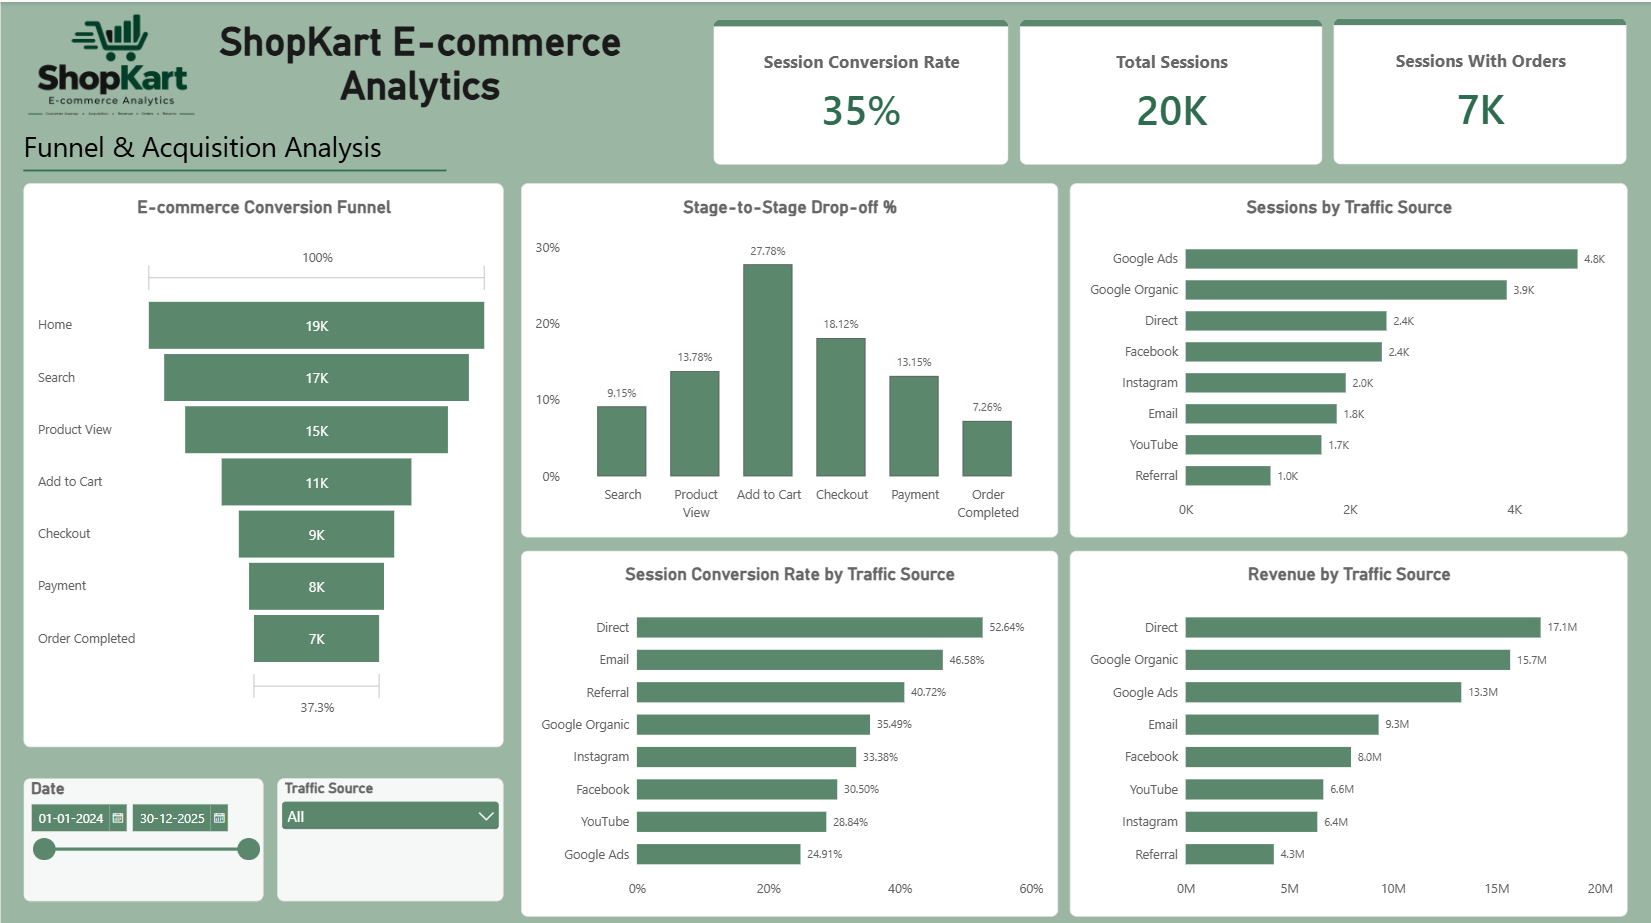

What the dashboard file says about the page in this screenshot:
{"tool":"powerbi","page":{"name":"Funnel Analysis","canvas":[1920,1080],"ordinal":0},"visuals":[{"type":"funnel","title":"E-commerce Conversion Funnel","fields":{"Category":["Funnel Stages.Stage"],"Y":["Funnel Stages.Funnel Value"]},"box":[26.2,211,558.1,655.8],"z":0},{"type":"clusteredColumnChart","title":"Stage-to-Stage Drop-off %","fields":{"Category":["Funnel Stages.Stage"],"Y":["Funnel Stages.Funnel Drop Off %"]},"box":[605.2,211,624.4,411.6],"z":1000},{"type":"cardVisual","fields":{"Data":["sessions.Total Sessions"]},"box":[1184.3,20.9,352.3,169.2],"z":2000},{"type":"cardVisual","fields":{"Data":["sessions.Sessions With Orders"]},"box":[1550.6,19.2,341.9,170.9],"z":3000},{"type":"cardVisual","fields":{"Data":["sessions.Session Conversion Rate"]},"box":[828.5,20.9,343.6,169.2],"z":4000},{"type":"clusteredBarChart","title":"Session Conversion Rate by Traffic Source","fields":{"Category":["sessions.traffic_source"],"Y":["sessions.Traffic Source Conversion Rate"]},"box":[605.2,638.4,624.4,425.6],"z":5000},{"type":"clusteredBarChart","title":"Sessions by Traffic Source","fields":{"Category":["sessions.traffic_source"],"Y":["sessions.Total Sessions"]},"box":[1243.6,211,648.8,411.6],"z":6000},{"type":"clusteredBarChart","title":"Revenue by Traffic Source ","fields":{"Category":["sessions.traffic_source"],"Y":["orders.Revenue by Traffic Source"]},"box":[1243.6,638.4,648.8,425.6],"z":7000},{"type":"textbox","title":"ShopKart E-commerce Analytics","box":[242.4,19.2,490.1,111.6],"z":8000},{"type":"textbox","box":[26.2,144.8,432.6,45.3],"z":9000},{"type":"shape","box":[26.2,167.4,491.9,57.6],"z":10000},{"type":"slicer","fields":{"Values":["DateTable.Date"]},"box":[26.2,903.5,279.1,143],"z":11000},{"type":"slicer","fields":{"Values":["sessions.traffic_source"]},"box":[320.9,903.5,263.4,143],"z":12000},{"type":"image","box":[0,0,256.4,144.8],"z":13000}]}

Visuals, with their boxes in screenshot pixels (x1, y1, x2, y2), scaled from the page's 1920x1080 canvas onto the 1651x923 screenshot:
"E-commerce Conversion Funnel" funnel: (x1=23, y1=180, x2=502, y2=741)
"Stage-to-Stage Drop-off %" clusteredColumnChart: (x1=520, y1=180, x2=1057, y2=532)
cardVisual - sessions.Total Sessions: (x1=1018, y1=18, x2=1321, y2=162)
cardVisual - sessions.Sessions With Orders: (x1=1333, y1=16, x2=1627, y2=162)
cardVisual - sessions.Session Conversion Rate: (x1=712, y1=18, x2=1008, y2=162)
"Session Conversion Rate by Traffic Source" clusteredBarChart: (x1=520, y1=546, x2=1057, y2=909)
"Sessions by Traffic Source" clusteredBarChart: (x1=1069, y1=180, x2=1627, y2=532)
"Revenue by Traffic Source " clusteredBarChart: (x1=1069, y1=546, x2=1627, y2=909)
"ShopKart E-commerce Analytics" textbox: (x1=208, y1=16, x2=630, y2=112)
textbox: (x1=23, y1=124, x2=395, y2=162)
shape: (x1=23, y1=143, x2=446, y2=192)
slicer - DateTable.Date: (x1=23, y1=772, x2=263, y2=894)
slicer - sessions.traffic_source: (x1=276, y1=772, x2=502, y2=894)
image: (x1=0, y1=0, x2=220, y2=124)
